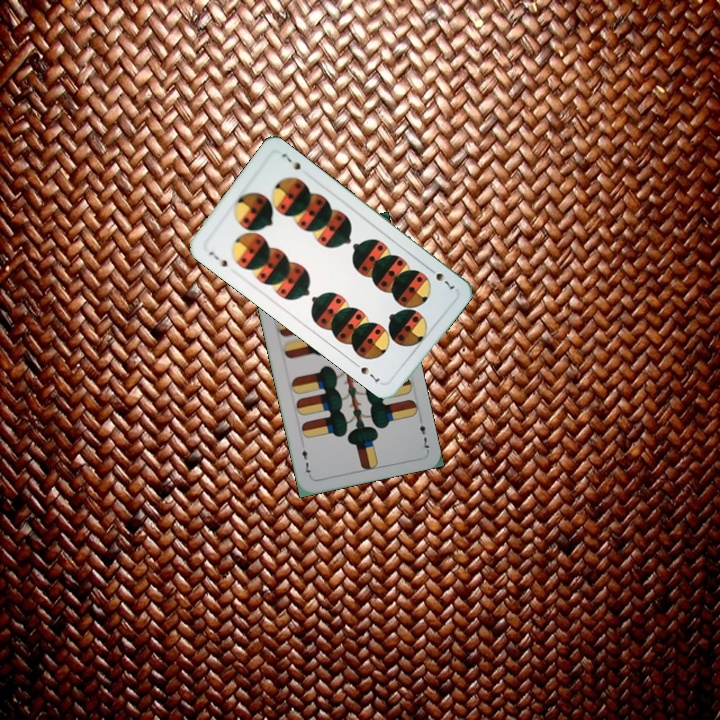E7: (415, 413, 432, 453)
S7: (424, 263, 457, 292), (204, 247, 230, 270)
